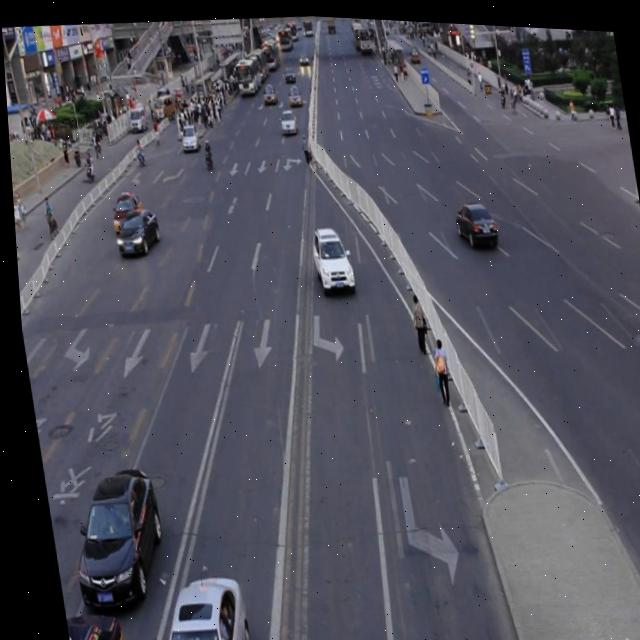car: (54, 459, 165, 611), (137, 564, 244, 640), (304, 220, 352, 292), (107, 202, 160, 256), (450, 193, 496, 247), (56, 605, 117, 640), (104, 186, 142, 233)
